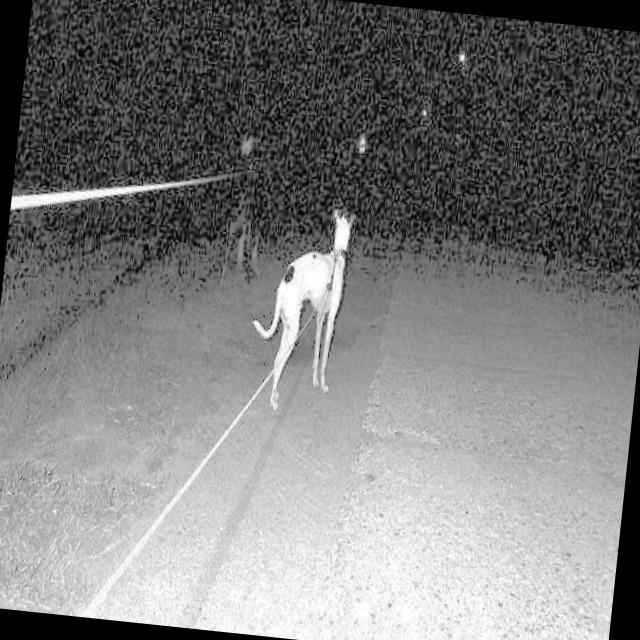Dog: (232, 190, 364, 460)
